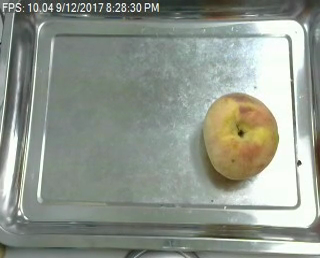Peach: (202, 92, 279, 178)
